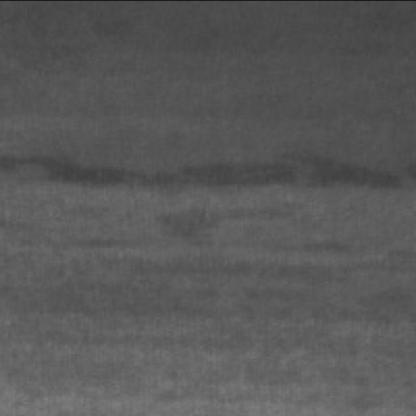inclusion: (8, 141, 414, 237)
